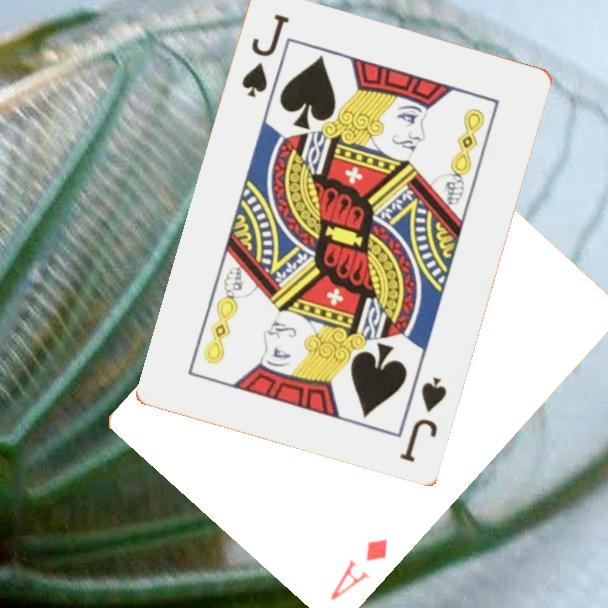d01: (326, 534, 391, 603)
s11: (237, 9, 292, 100), (396, 373, 449, 465)
